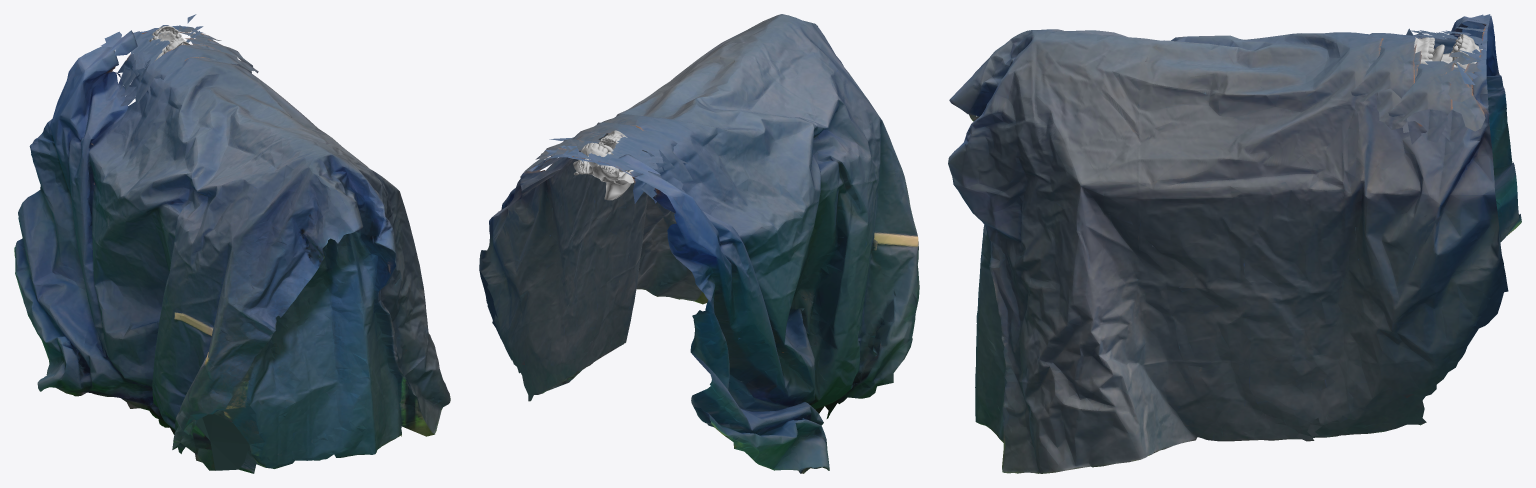
File: PatientCover.gltf
3 views of the same model, side by side, from view 1: azimuth 30°, elevation 25°; view 2: azimuth 150°, elevation 25°; view 3: azimuth 270°, elevation 25° (orthographic). The views are drawn at different scales.
Visible parts, largest first — view 1: Object_2; view 2: Object_2, mouth_0, teeth_1; view 3: Object_2, mouth_0.
Part boxes in pixels (x1,y1,x2,y2): Object_2: (14,14,450,473); Object_2: (479,14,919,473); mouth_0: (573,130,633,200); teeth_1: (578,136,619,174); Object_2: (948,14,1521,473); mouth_0: (1414,37,1482,70).
Bounding box in the file's own units: 1.38 × 1.4 × 1.82.
